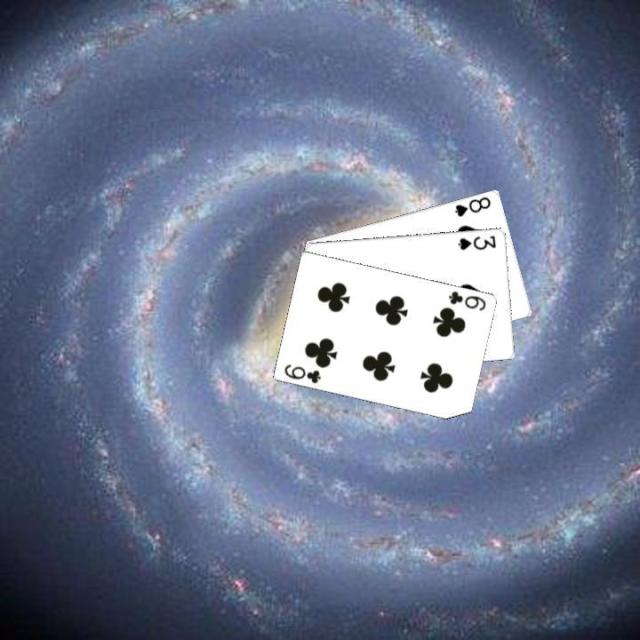3S: (454, 231, 498, 252)
6C: (445, 287, 488, 312), (281, 360, 323, 385)
8S: (450, 192, 492, 218)
